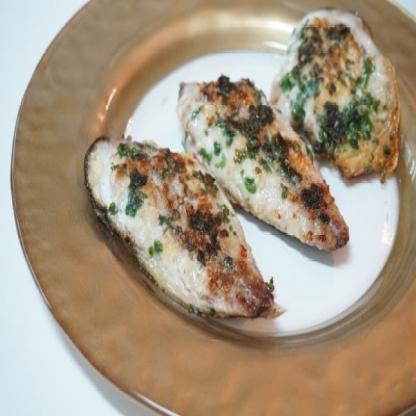Peixe: (80, 127, 286, 332), (181, 68, 351, 273), (278, 1, 414, 188)
